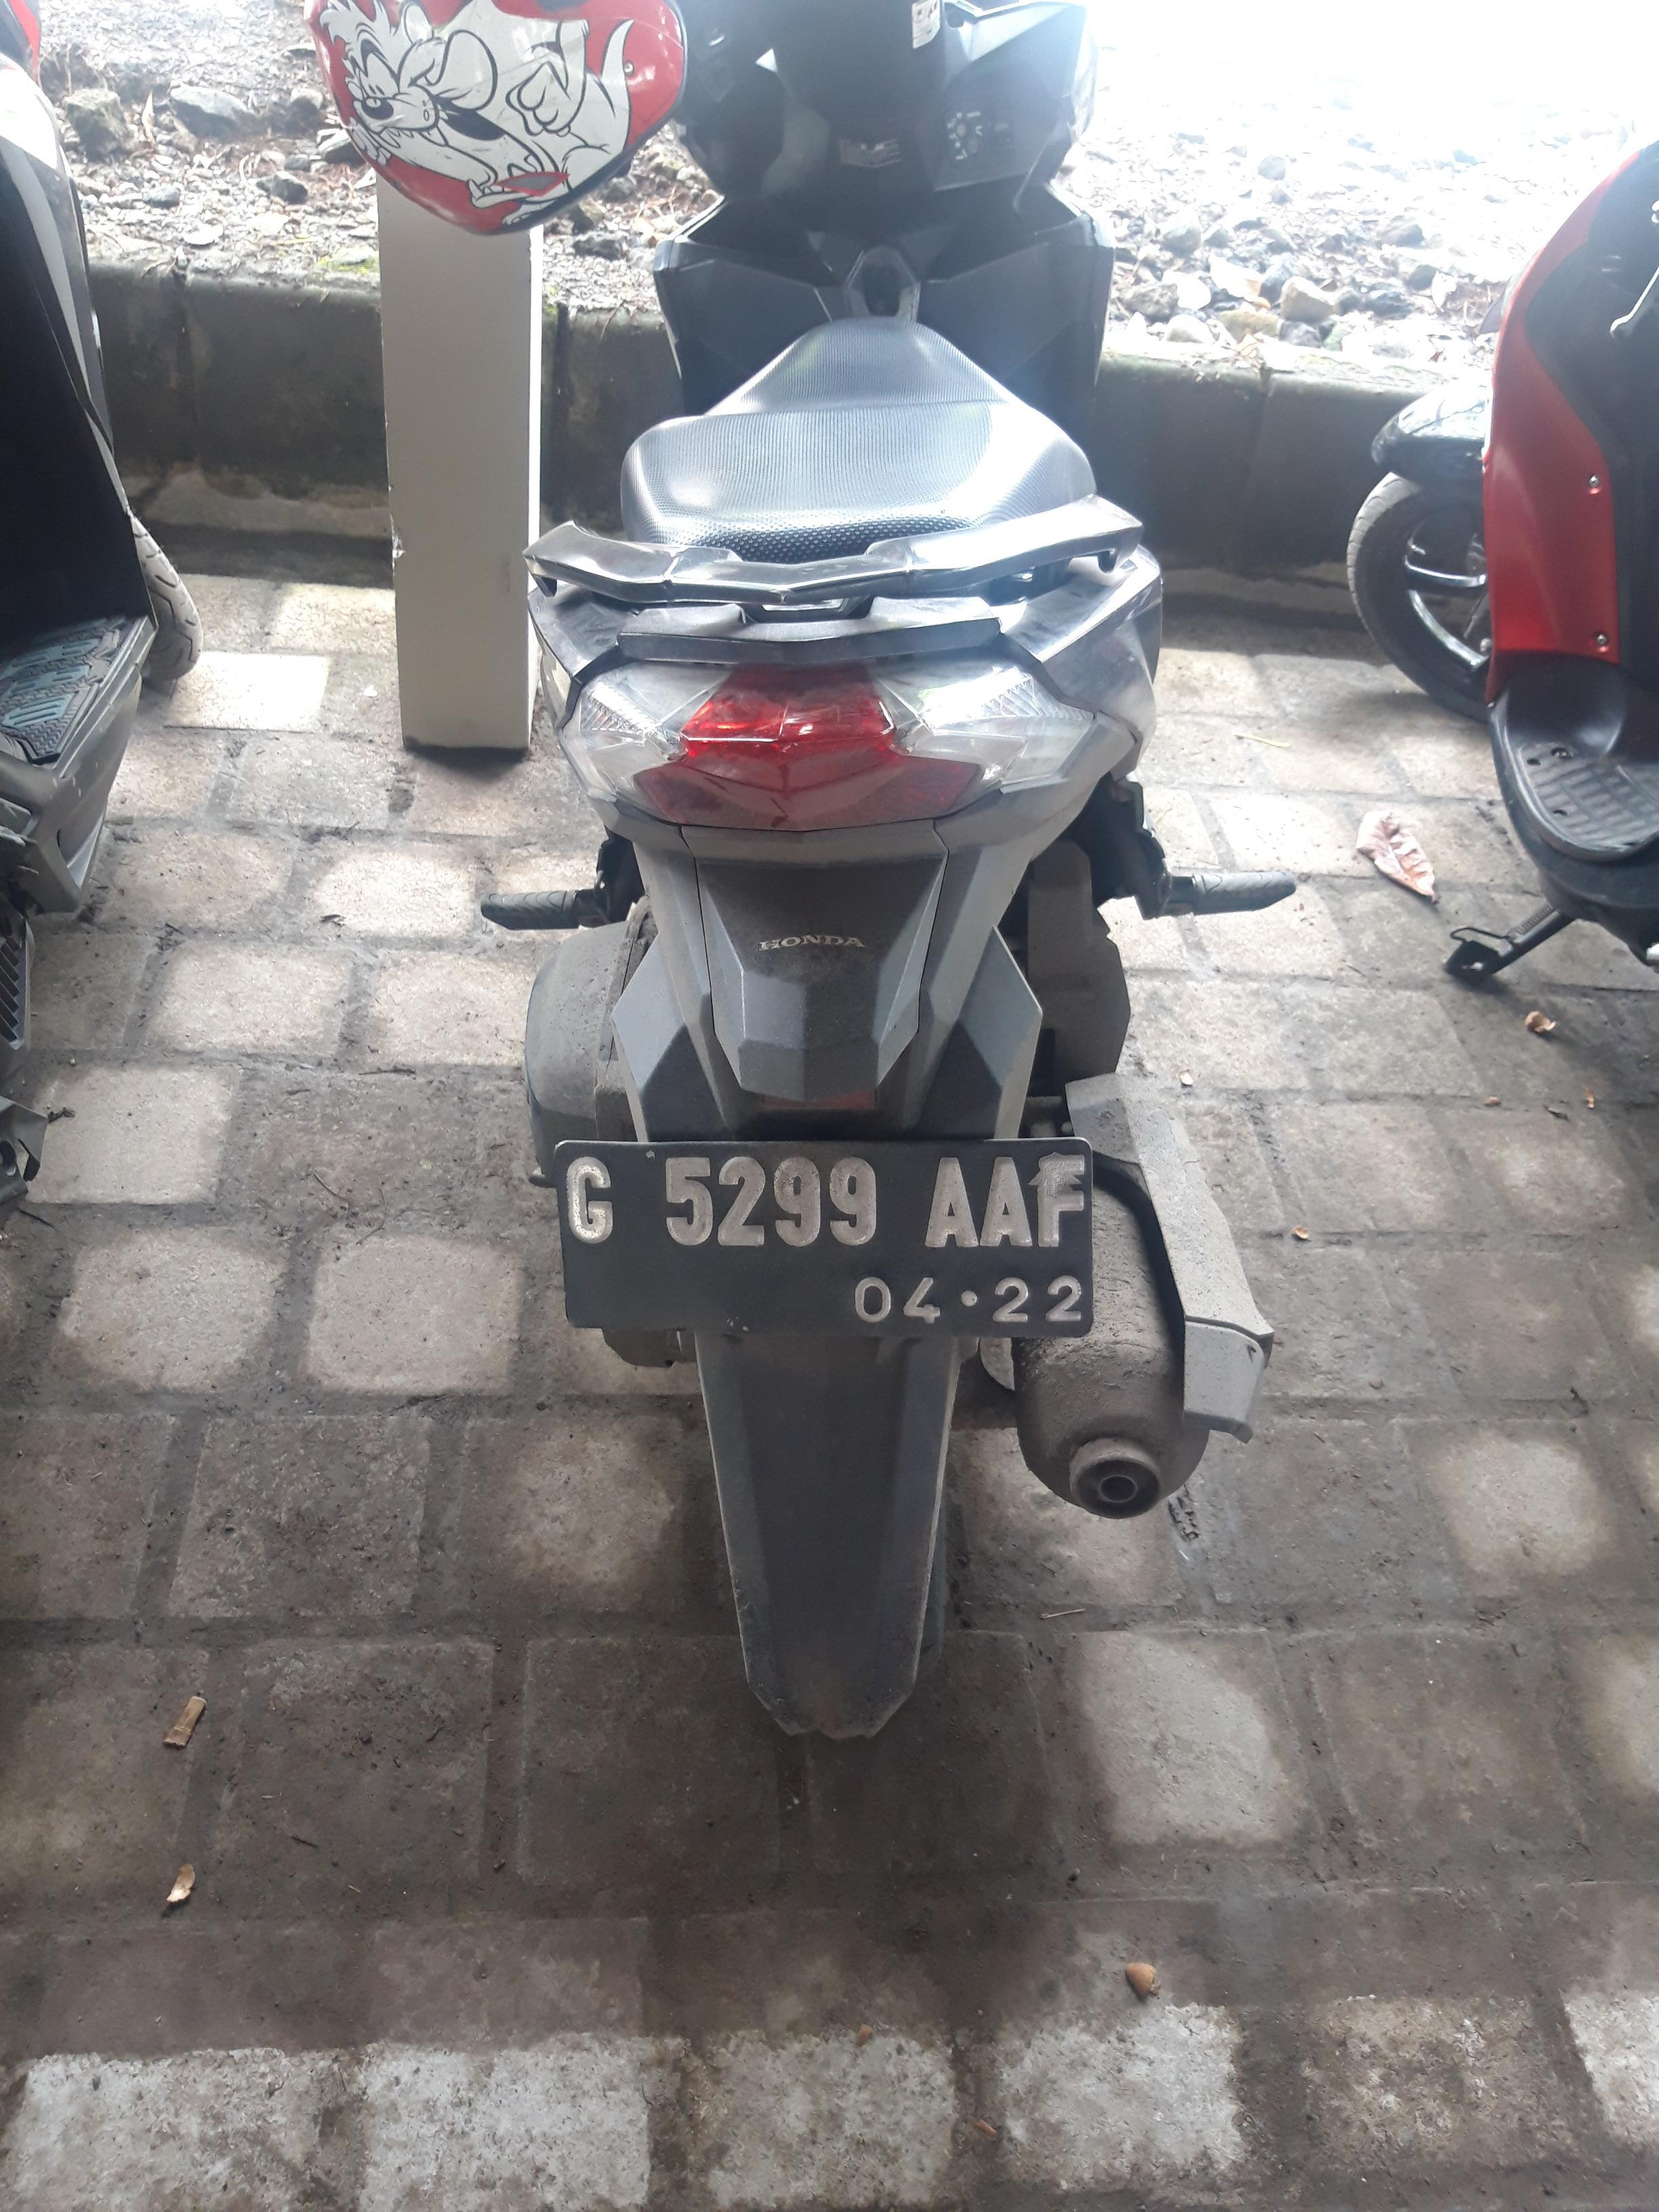clone-license-plate: (547, 1143, 1101, 1348)
